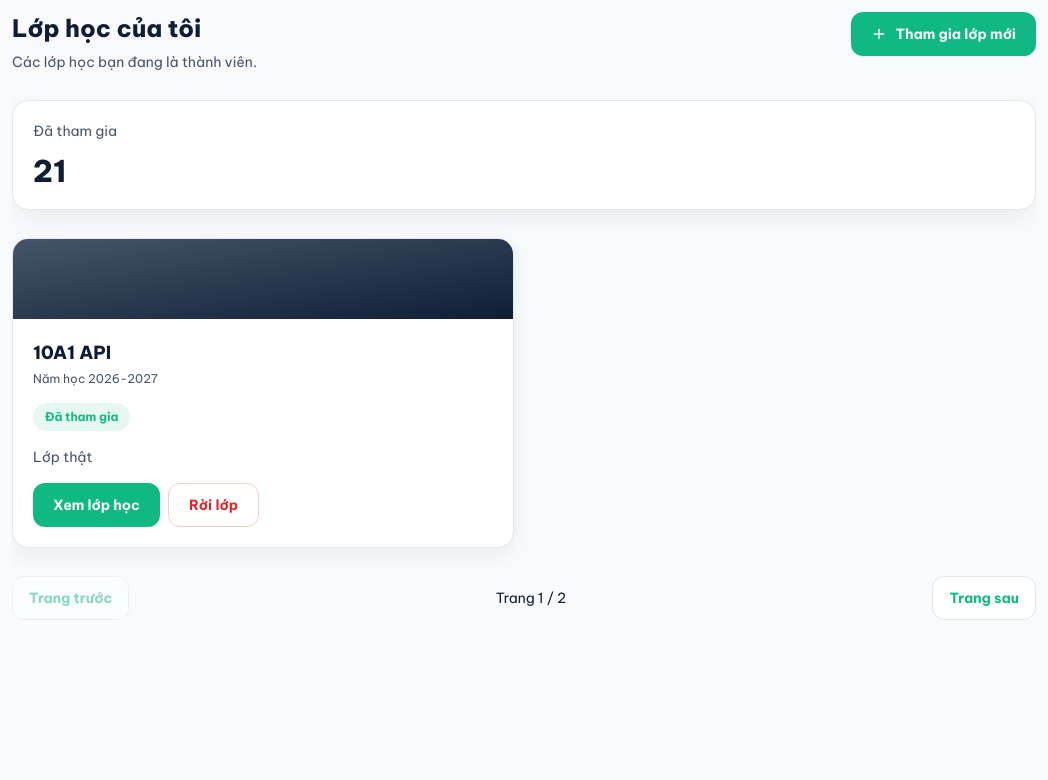
Test: student classes with Laravel API mock › shows only active memberships from the API and backend total, then paginates
The width and height of the screenshot is (1048, 780).
Click the button "Trang sau" at (984, 598), box [932, 576, 1036, 620]
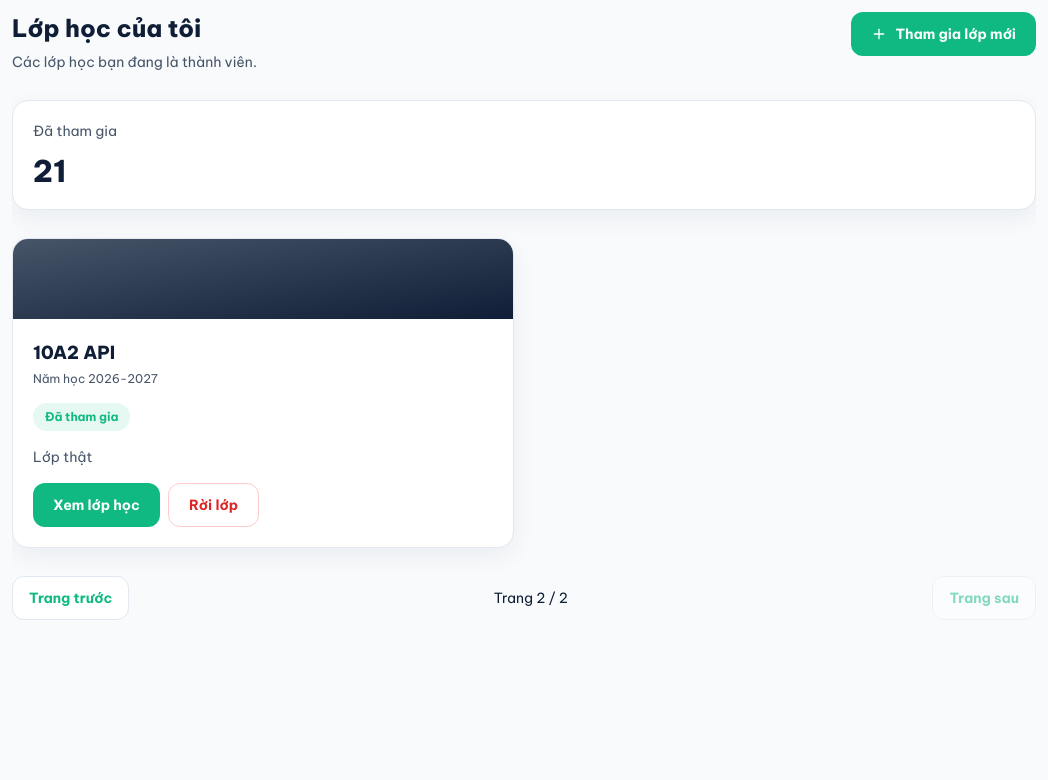
Check: the text "10A2 API" is shown, box [33, 341, 115, 364]
Check: the text "10A1 API" is gone
